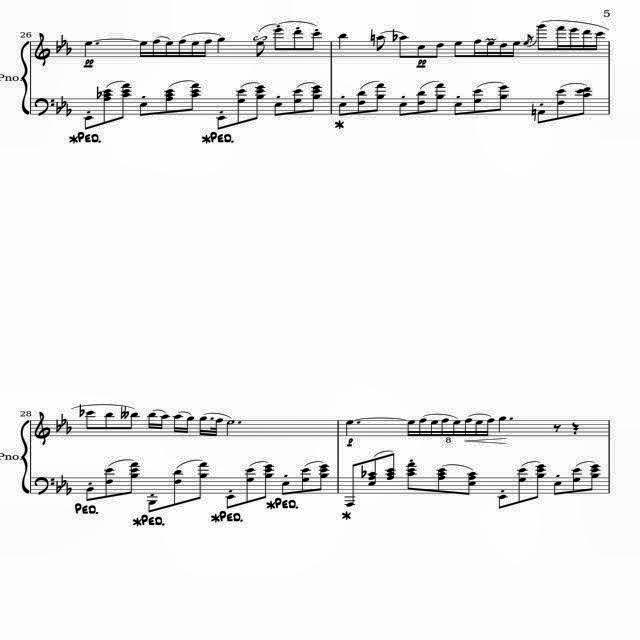Bass-clef: (32, 30, 52, 66), (34, 410, 50, 446)
Bemol: (77, 402, 86, 418), (58, 474, 68, 488), (392, 26, 400, 42), (64, 480, 72, 496), (51, 420, 61, 432), (64, 41, 72, 54), (54, 40, 62, 52), (56, 102, 64, 114), (64, 104, 72, 116), (64, 420, 72, 432), (59, 414, 66, 426), (54, 480, 61, 492), (60, 34, 66, 46), (61, 96, 67, 108)
Eighth-note: (342, 462, 358, 506), (490, 484, 510, 512), (536, 22, 552, 54), (398, 34, 410, 62), (84, 408, 98, 432), (212, 113, 230, 131), (272, 28, 284, 52), (292, 29, 304, 51), (312, 31, 324, 53), (452, 38, 463, 61), (223, 493, 237, 511), (130, 410, 140, 434), (136, 101, 150, 117), (256, 40, 268, 58), (280, 480, 292, 498), (104, 412, 115, 431), (377, 34, 387, 54), (554, 478, 564, 498), (452, 102, 466, 116), (82, 114, 94, 130), (274, 102, 286, 118), (398, 103, 410, 119), (536, 108, 548, 124), (146, 498, 158, 514), (338, 103, 350, 117), (436, 38, 444, 58), (85, 486, 95, 502), (415, 44, 425, 58)
Eighth-rest: (552, 420, 564, 436)
Half-note: (226, 418, 234, 438)
Quarter-note: (336, 30, 349, 54), (217, 36, 227, 56), (344, 418, 354, 438), (83, 39, 93, 57), (497, 415, 507, 433)
Quarter-rest: (570, 419, 586, 439)
Sixteenth-note: (555, 24, 569, 54), (580, 28, 592, 52), (472, 36, 484, 59), (594, 31, 606, 53), (172, 413, 184, 435), (451, 418, 464, 438), (164, 40, 176, 60), (202, 38, 214, 58), (510, 40, 522, 59), (418, 417, 428, 439), (149, 39, 161, 57), (178, 39, 188, 60), (486, 40, 496, 60), (185, 414, 195, 434), (197, 416, 207, 436), (440, 416, 450, 436), (140, 39, 150, 57), (191, 40, 201, 58), (463, 418, 472, 438), (498, 42, 509, 58), (571, 28, 579, 50), (407, 419, 417, 436), (148, 410, 156, 430), (431, 419, 439, 437), (476, 419, 484, 436), (160, 413, 168, 429), (487, 418, 493, 438)
